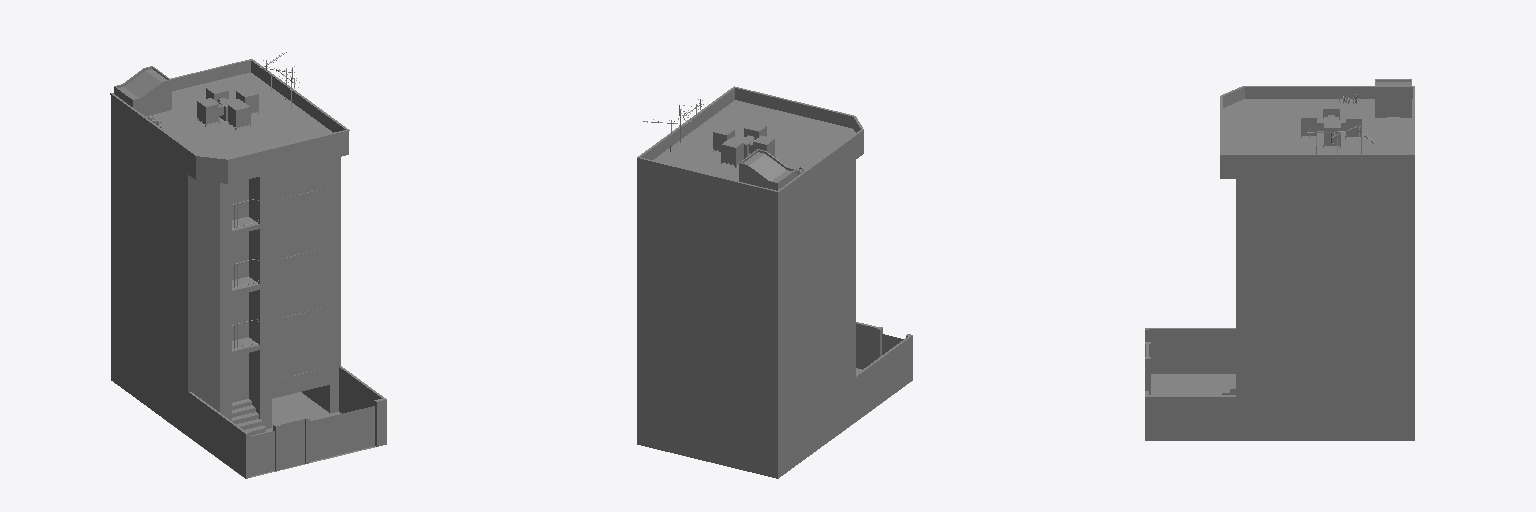
3 renders of one model, left to right at view 1: azimuth 30°, elevation 25°; view 2: azimuth 150°, elevation 25°; view 3: azimuth 270°, elevation 25°, orthographic.
Visible parts, largest first — view 1: Building00.000, Building01.000, Building07.000, Building03.000, Building10.000, Building02.000, Building08.000, Building09.000; view 2: Building00.000, Building01.000, Building10.000, Building03.000; view 3: Building00.000, Building01.000, Building10.000, Building02.000, Building03.000.
Part boxes in pixels (left/top/right/bottom): Building00.000: left=110, top=59, right=349, bottom=435; Building01.000: left=188, top=366, right=386, bottom=478; Building07.000: left=310, top=406, right=374, bottom=461; Building03.000: left=114, top=66, right=171, bottom=116; Building10.000: left=197, top=85, right=258, bottom=129; Building02.000: left=164, top=392, right=375, bottom=477; Building08.000: left=251, top=431, right=274, bottom=475; Building09.000: left=232, top=397, right=266, bottom=436; Building00.000: left=637, top=86, right=863, bottom=478; Building01.000: left=856, top=322, right=912, bottom=421; Building10.000: left=713, top=122, right=775, bottom=167; Building03.000: left=739, top=149, right=796, bottom=190; Building00.000: left=1220, top=86, right=1414, bottom=440; Building01.000: left=1145, top=328, right=1236, bottom=440; Building10.000: left=1301, top=102, right=1361, bottom=147; Building02.000: left=1151, top=374, right=1235, bottom=394; Building03.000: left=1375, top=79, right=1411, bottom=117.
Bounding box in the file's own units: 10.06 × 19.03 × 15.11.